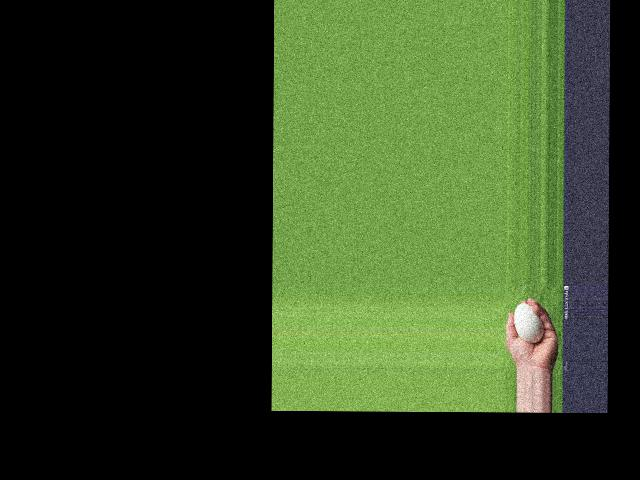egg: (514, 303, 544, 344)
